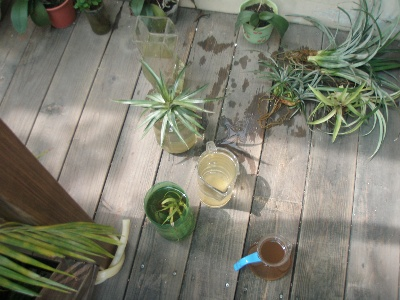bottle: (142, 179, 193, 241), (197, 141, 237, 208), (238, 233, 292, 281), (130, 14, 178, 57), (83, 2, 112, 35)
